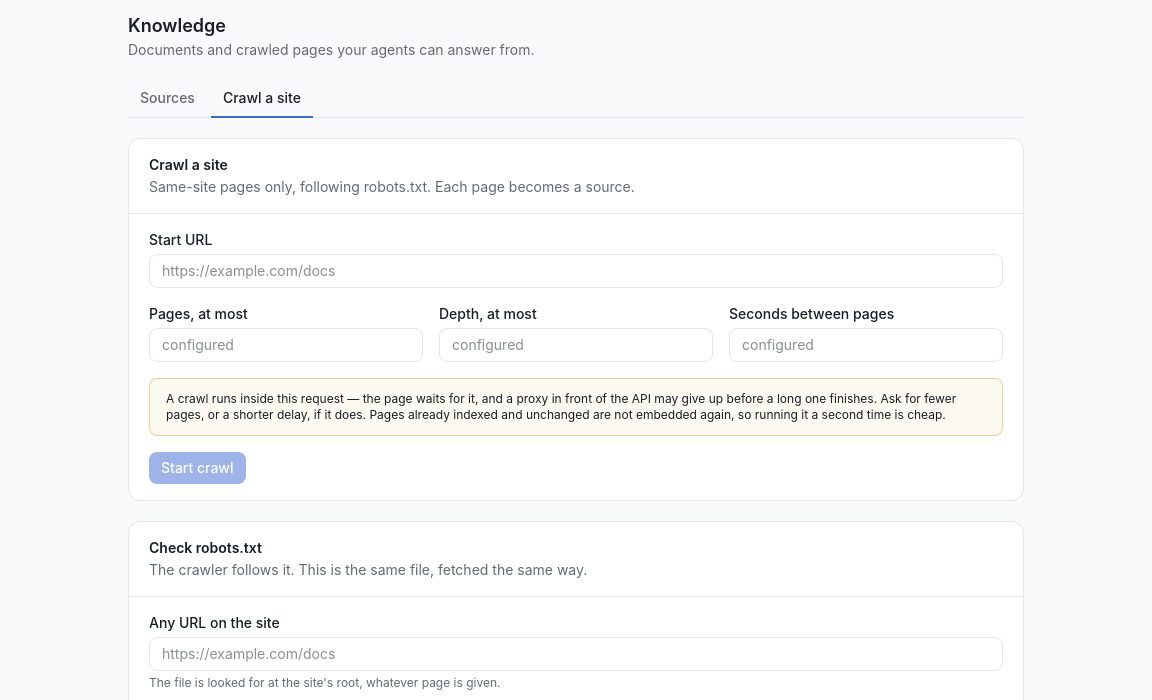
starting a crawl › blames the right server when the customer's site refuses us
This screenshot has width=1152, height=700.
Type "https://acme.test/docs" into the field labelled "Start URL" at (576,271), box 149,254 -> 1003,288
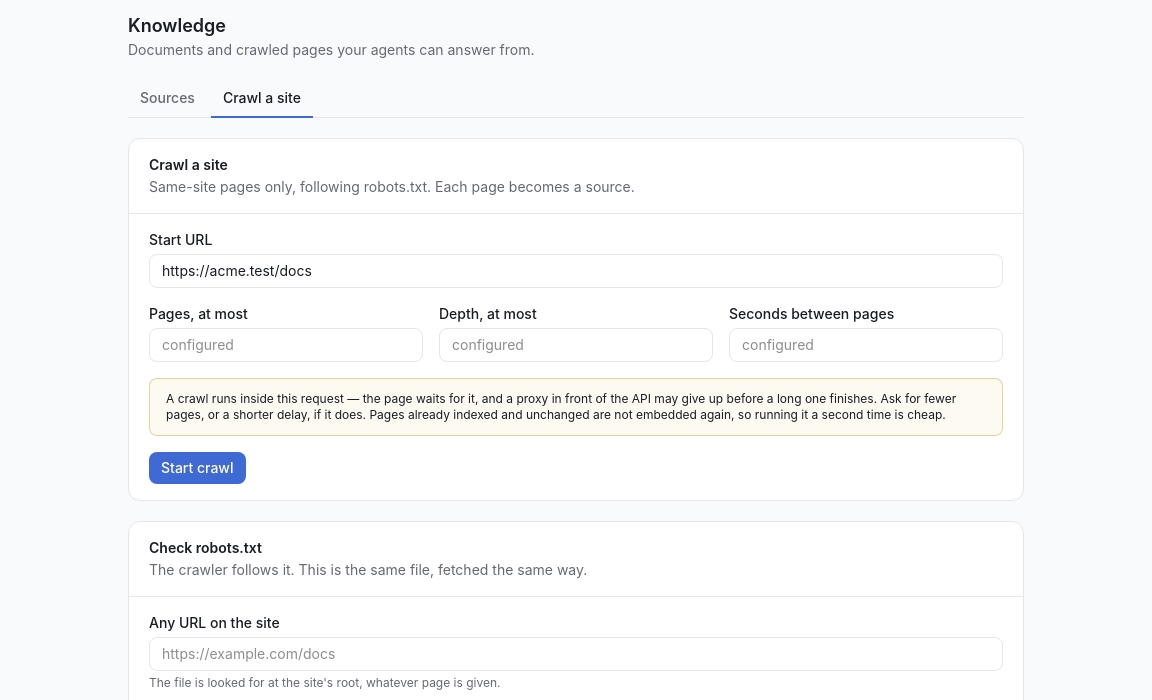
Click the button "Start crawl" at (197,468), box 149,452 -> 246,484
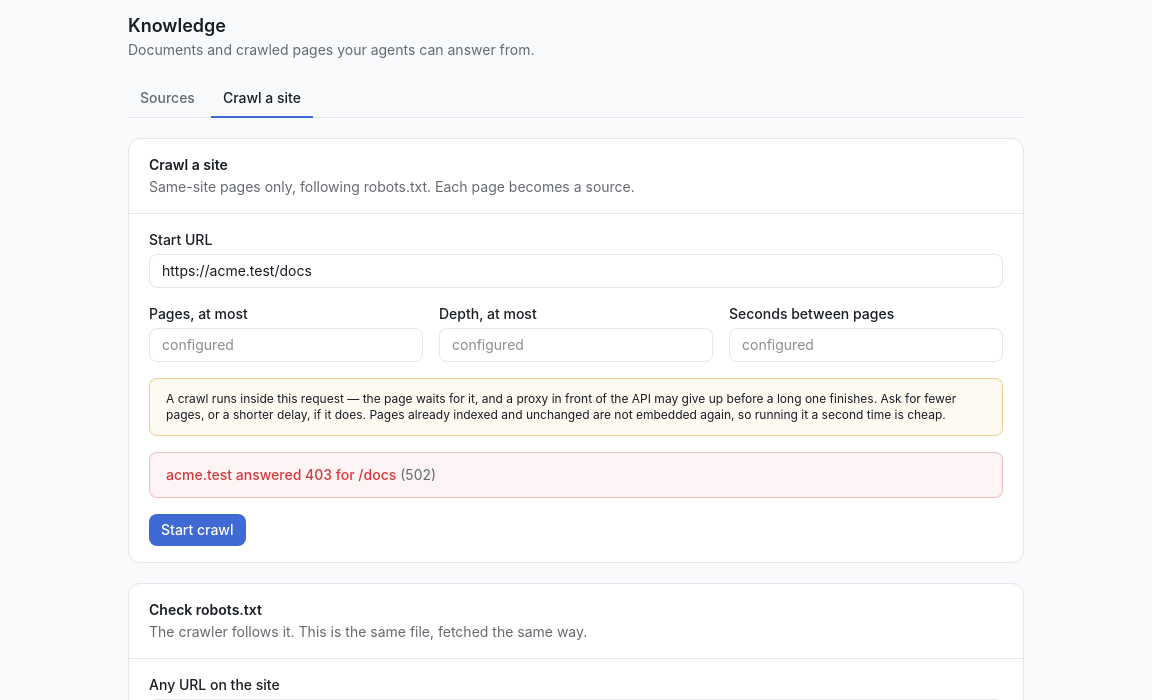
Check: the text "acme.test answered 403 for /docs (502)" is shown, box 166,466 -> 436,483
